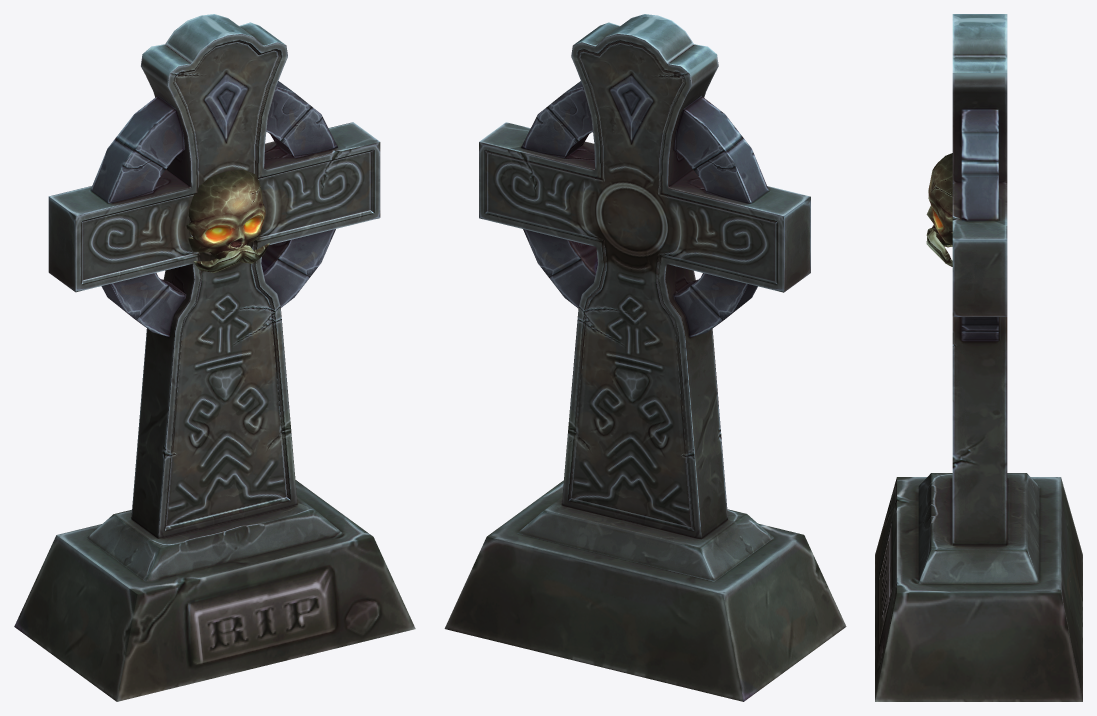
Rendered from Gravestone02.fbx.
3 views of the same model, side by side, from view 1: azimuth 30°, elevation 25°; view 2: azimuth 150°, elevation 25°; view 3: azimuth 270°, elevation 25° (orthographic).
Parts seen in each view (by area): view 1: Gravestone02; view 2: Gravestone02; view 3: Gravestone02.
Part boxes in pixels (left/top/right/bottom): Gravestone02: left=14, top=14, right=415, bottom=701; Gravestone02: left=444, top=14, right=846, bottom=701; Gravestone02: left=875, top=14, right=1082, bottom=701.
Bounding box in the file's own units: 48.27 × 91.13 × 28.18.
